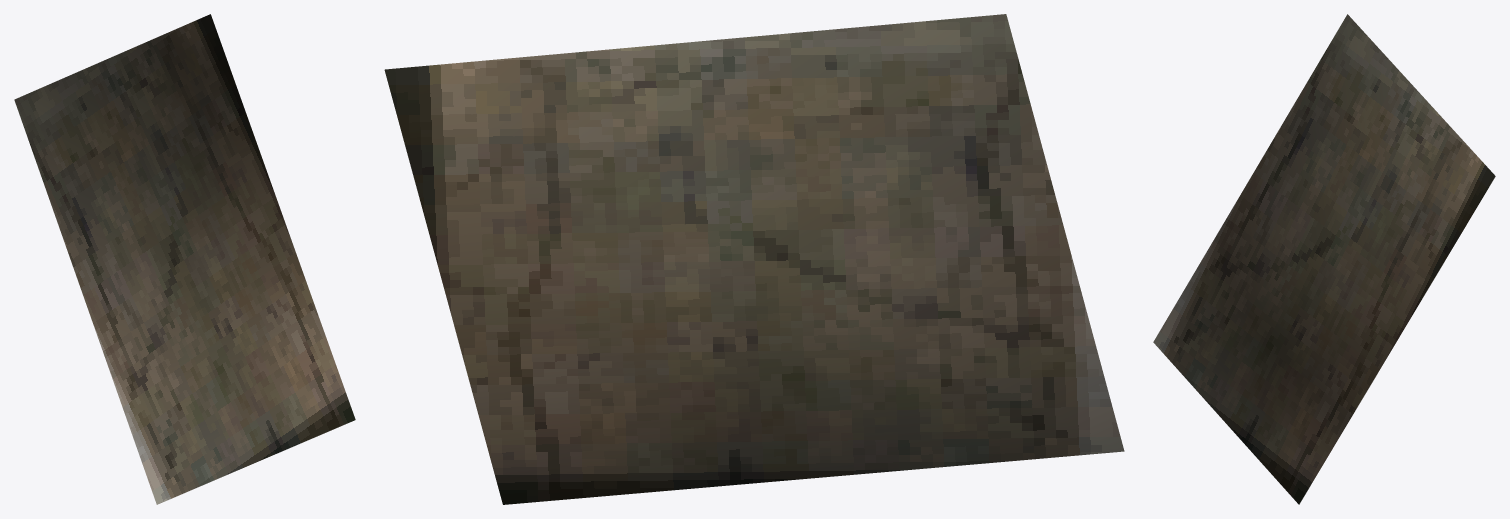
File: CH09_SMAUG_PLAYSURFACE_LAIR143.fbx
3 renders of one model, left to right at view 1: azimuth 30°, elevation 25°; view 2: azimuth 150°, elevation 25°; view 3: azimuth 270°, elevation 25°, orthographic. The views are drawn at different scales.
Parts seen in each view (by area): view 1: CH09_SMAUG_PLAYSURFACE_LAIR143; view 2: CH09_SMAUG_PLAYSURFACE_LAIR143; view 3: CH09_SMAUG_PLAYSURFACE_LAIR143.
Part boxes in pixels (bbox=[...]): CH09_SMAUG_PLAYSURFACE_LAIR143: bbox=[14, 14, 355, 504]; CH09_SMAUG_PLAYSURFACE_LAIR143: bbox=[384, 14, 1124, 504]; CH09_SMAUG_PLAYSURFACE_LAIR143: bbox=[1153, 14, 1495, 504].
Size of the model in its own units: 5058 by 5796 by 5156.
Materials: 1 (1 with a texture image).
